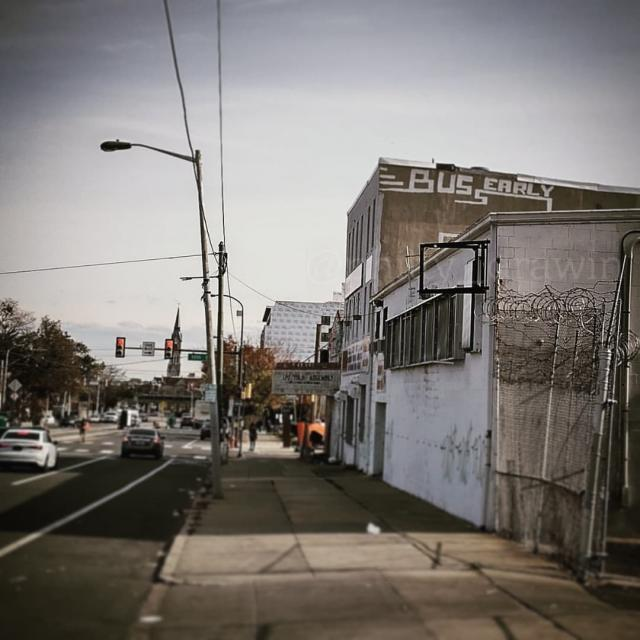-: (377, 165, 561, 218)
